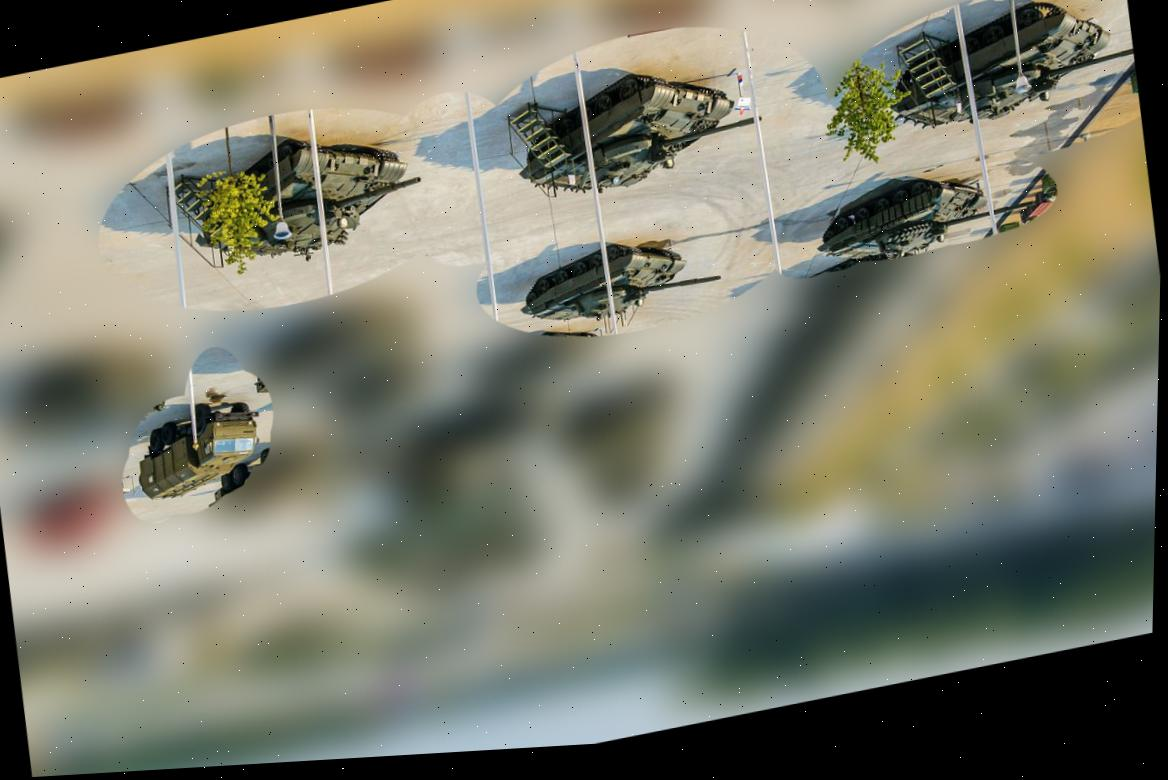tank: (500, 47, 772, 209), (179, 112, 438, 282), (880, 0, 1137, 121), (807, 150, 1042, 276), (511, 222, 728, 340)
truck: (125, 388, 267, 507)
